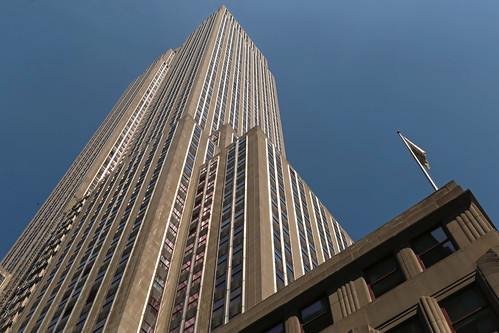medium: (1, 3, 294, 333)
